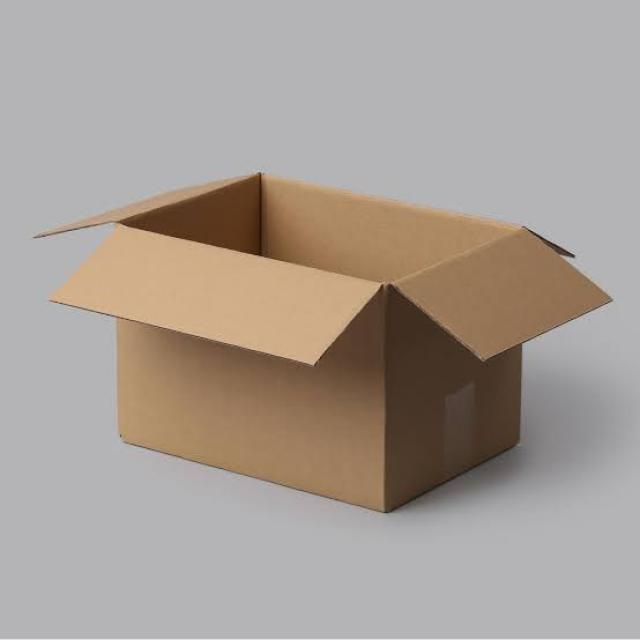cardboard: (10, 132, 625, 528)
